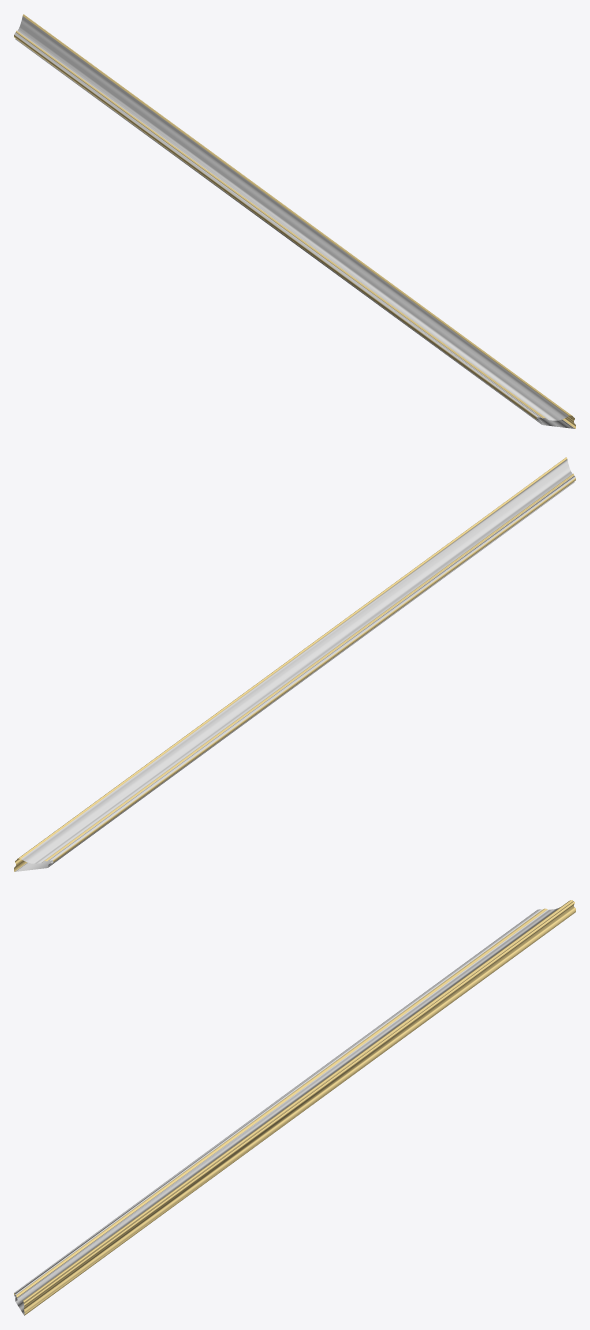
File: finalfinalglb.glb
3 views of the same model, one above another, from view 1: azimuth 30°, elevation 25°; view 2: azimuth 150°, elevation 25°; view 3: azimuth 330°, elevation 25° (orthographic).
Parts seen in each view (by area): view 1: final.002; view 2: final.002; view 3: final.002.
Part boxes in pixels (x1,y1,x2,y2): final.002: (14,14,575,428); final.002: (14,457,575,871); final.002: (14,900,575,1315).
Bounding box in the file's own units: 3.13 × 1.56 × 120.
2 materials, 1 textured.
